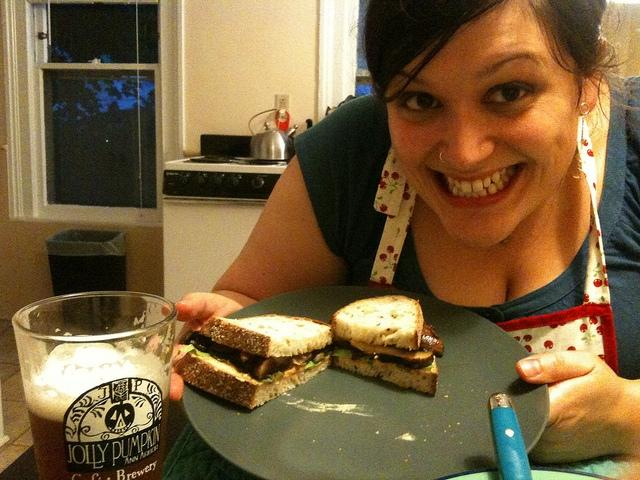pumpkin: (105, 402, 135, 434)
